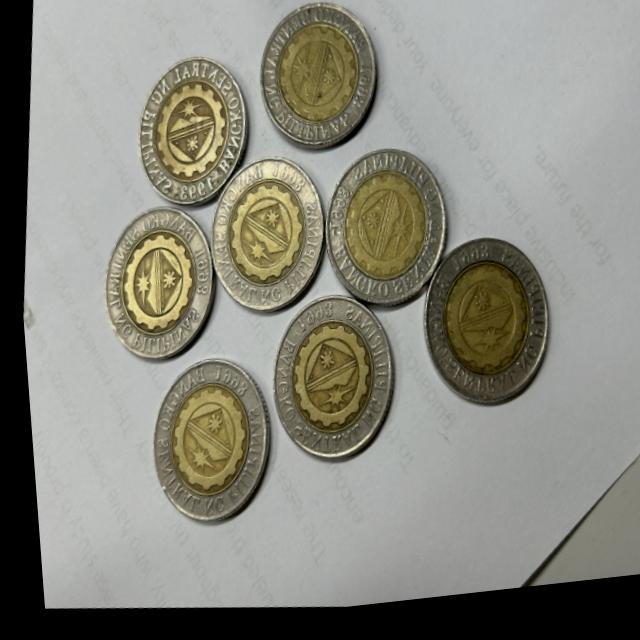10_Old_Back: (133, 351, 276, 544), (414, 241, 553, 420), (258, 294, 394, 476), (307, 152, 447, 320), (87, 195, 217, 365), (259, 5, 384, 159), (198, 162, 322, 317), (139, 56, 253, 200)
